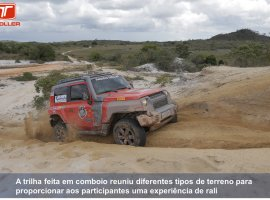Carro: (46, 71, 179, 149)
